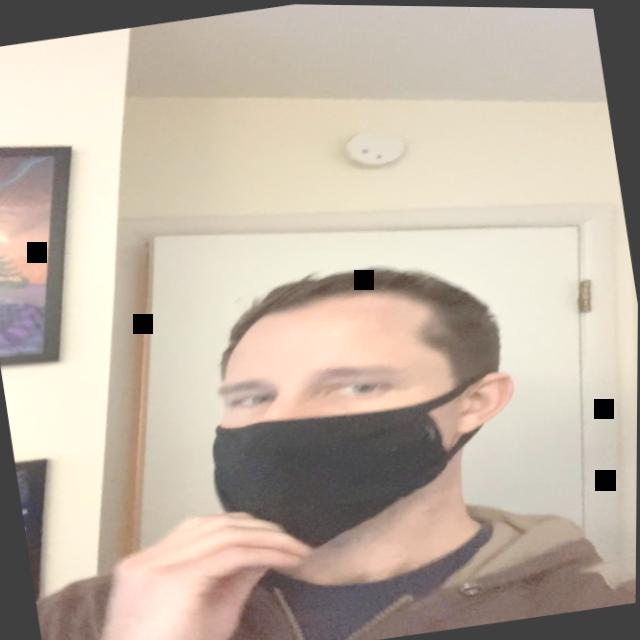Mask: (187, 273, 482, 567)
